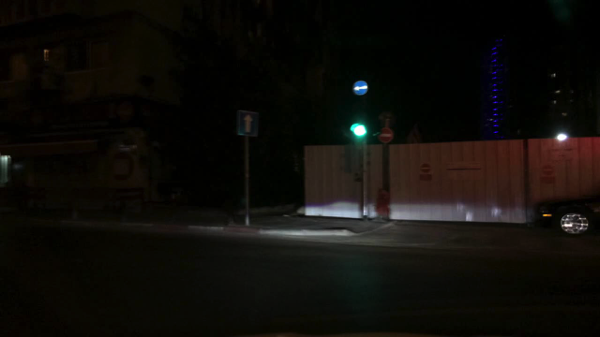car: (534, 192, 599, 238)
traffic light: (352, 106, 367, 140)
traffic sign: (238, 110, 258, 137), (352, 78, 369, 96), (377, 127, 394, 143)
